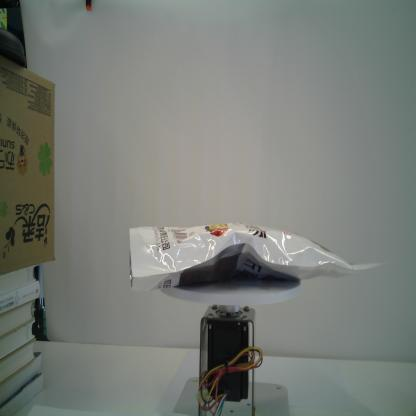Dried Food: (127, 220, 387, 296)
